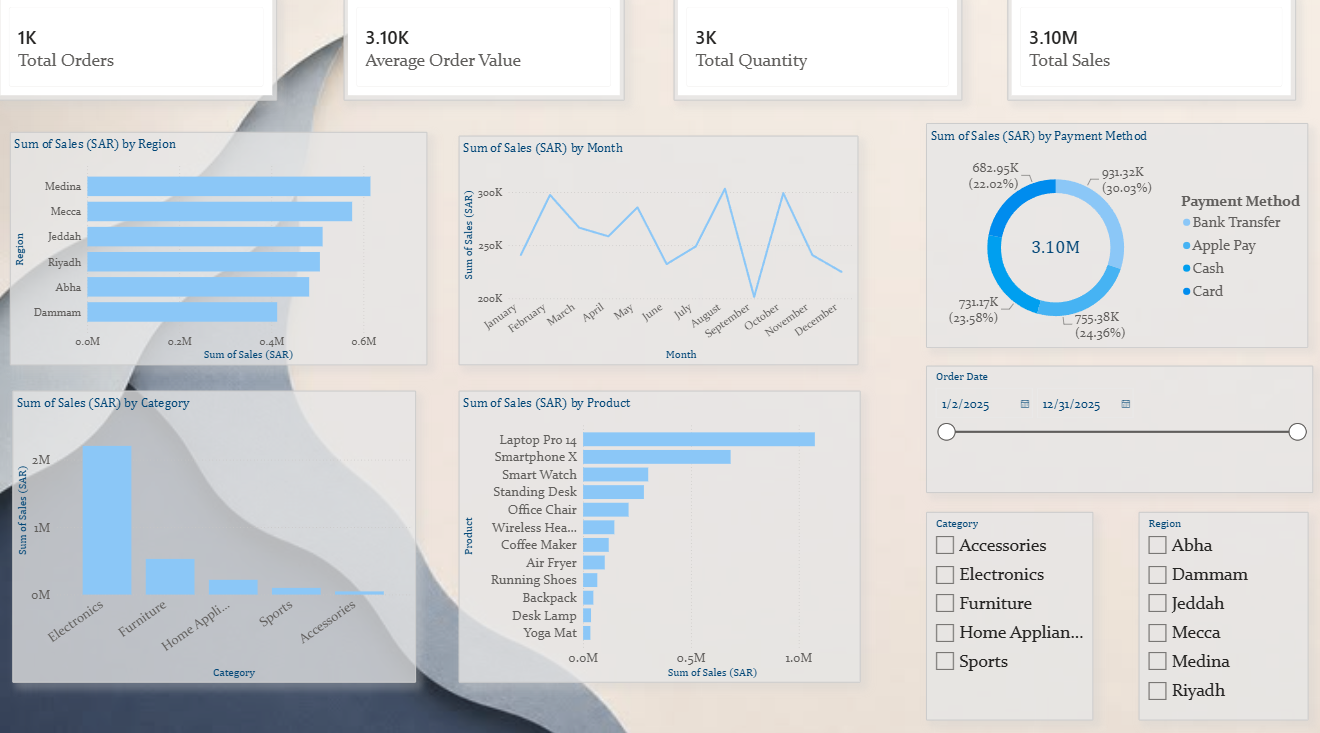

Layout of this report page (visuals, bound fields, positions):
{"tool":"powerbi","page":{"name":"Page 1","canvas":[1920,1080],"ordinal":0},"visuals":[{"type":"cardVisual","fields":{"Data":["Sales Data.Total Orders"]},"box":[0,0,407.2,155.6],"z":0},{"type":"cardVisual","fields":{"Data":["Sales Data.Average Order Value"]},"box":[503.1,0,407.2,155.6],"z":1000},{"type":"cardVisual","fields":{"Data":["Sales Data.Total Quantity"]},"box":[980.8,0,418,155.6],"z":2000},{"type":"cardVisual","fields":{"Data":["Sales Data.Total Sales"]},"box":[1464,0,418,155.6],"z":3000},{"type":"clusteredBarChart","fields":{"Category":["Sales Data.Region"],"Y":["Sum(Sales Data.Sales (SAR))"]},"box":[19.9,200.9,604.4,338.4],"z":4000},{"type":"clusteredColumnChart","fields":{"Category":["Sales Data.Category"],"Y":["Sum(Sales Data.Sales (SAR))"]},"box":[23.5,575.5,584.5,423.5],"z":5000},{"type":"clusteredBarChart","fields":{"Category":["Sales Data.Product"],"Y":["Sum(Sales Data.Sales (SAR))"]},"box":[669.6,575.5,582.7,423.5],"z":6000},{"type":"lineChart","fields":{"Category":["Sales Data.Order Date.Variation.Date Hierarchy.Month"],"Y":["Sum(Sales Data.Sales (SAR))"]},"box":[669.6,206.3,579.1,333],"z":7000},{"type":"donutChart","fields":{"Category":["Sales Data.Payment Method"],"Y":["Sum(Sales Data.Sales (SAR))"]},"box":[1346.4,188.2,553.8,325.7],"z":8000},{"type":"slicer","fields":{"Values":["Sales Data.Region"]},"box":[1654,751,246.1,302.2],"z":9000},{"type":"slicer","fields":{"Values":["Sales Data.Category"]},"box":[1346.4,751,242.5,302.2],"z":10000},{"type":"slicer","fields":{"Values":["Sales Data.Order Date"]},"box":[1346.4,539.3,561,184.6],"z":11000}]}

Visuals, with their boxes in screenshot pixels (x1, y1, x2, y2), scaled from the page's 1920x1080 canvas onto the 1320x733 screenshot:
cardVisual - Sales Data.Total Orders: region(0, 0, 280, 106)
cardVisual - Sales Data.Average Order Value: region(346, 0, 626, 106)
cardVisual - Sales Data.Total Quantity: region(674, 0, 962, 106)
cardVisual - Sales Data.Total Sales: region(1006, 0, 1294, 106)
clusteredBarChart - Sales Data.Region x Sum(Sales Data.Sales (SAR)): region(14, 136, 429, 366)
clusteredColumnChart - Sales Data.Category x Sum(Sales Data.Sales (SAR)): region(16, 391, 418, 678)
clusteredBarChart - Sales Data.Product x Sum(Sales Data.Sales (SAR)): region(460, 391, 861, 678)
lineChart - Sales Data.Order Date.Variation.Date Hierarchy.Month x Sum(Sales Data.Sales (SAR)): region(460, 140, 858, 366)
donutChart - Sales Data.Payment Method x Sum(Sales Data.Sales (SAR)): region(926, 128, 1306, 349)
slicer - Sales Data.Region: region(1137, 510, 1306, 715)
slicer - Sales Data.Category: region(926, 510, 1092, 715)
slicer - Sales Data.Order Date: region(926, 366, 1311, 491)
